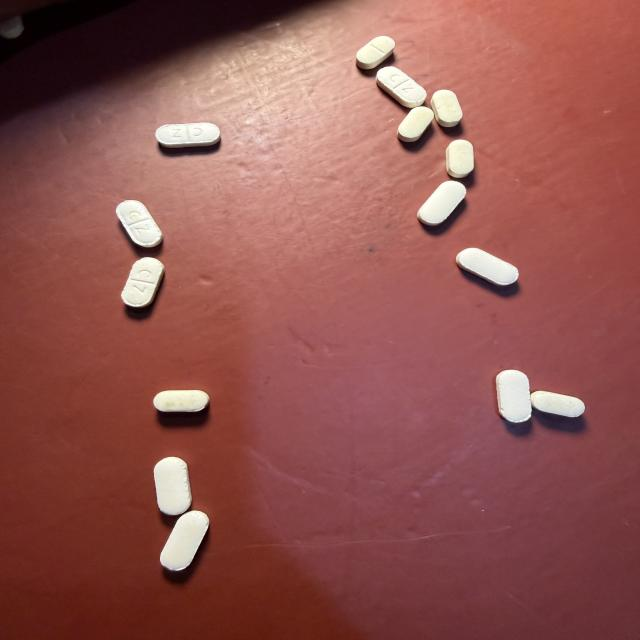pill: (160, 511, 209, 570), (456, 248, 518, 285), (116, 200, 162, 247), (154, 457, 191, 515), (418, 181, 466, 225), (122, 257, 164, 307), (377, 67, 426, 107), (496, 370, 531, 422), (156, 123, 220, 147), (531, 391, 584, 417), (398, 106, 433, 142), (356, 36, 394, 69), (154, 390, 209, 412), (431, 90, 462, 126), (446, 140, 474, 178), (0, 16, 23, 39)
